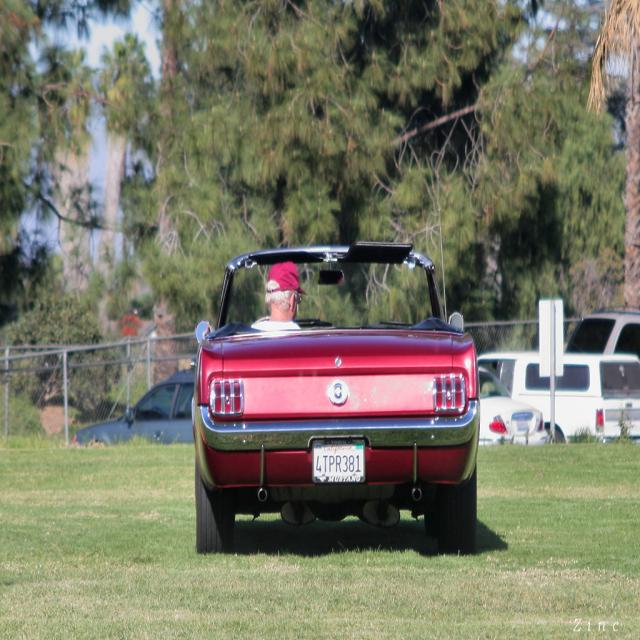car: (188, 246, 486, 557)
